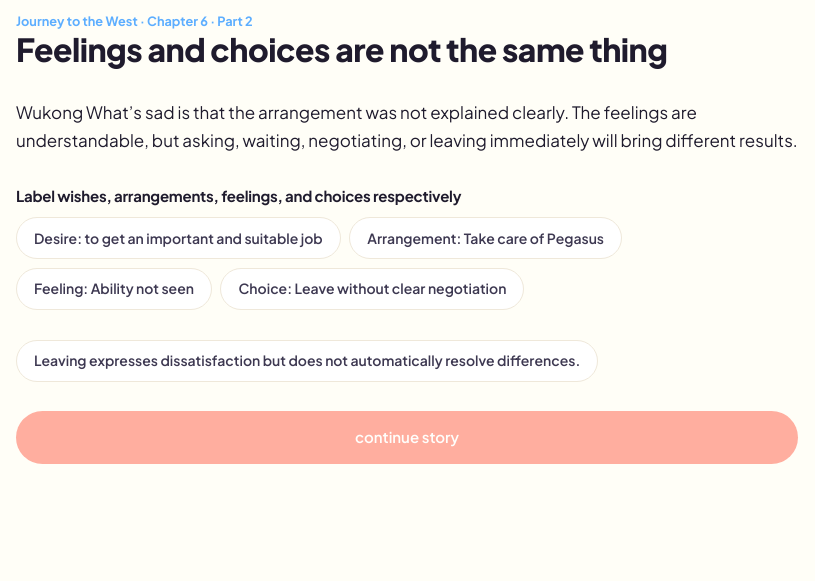
Test: JourneyWestC6IntroPartsPage › keeps understandable feelings separate from the consequential choice in P2
Check: the text "Wukong What’s sad" is shown, box [16,101,798,151]
What coordinates should you click on to do the following:
click the button "Desire: to get an important and suitable job"
I would click on:
 (178, 238)
Its box is [16,217,341,259].
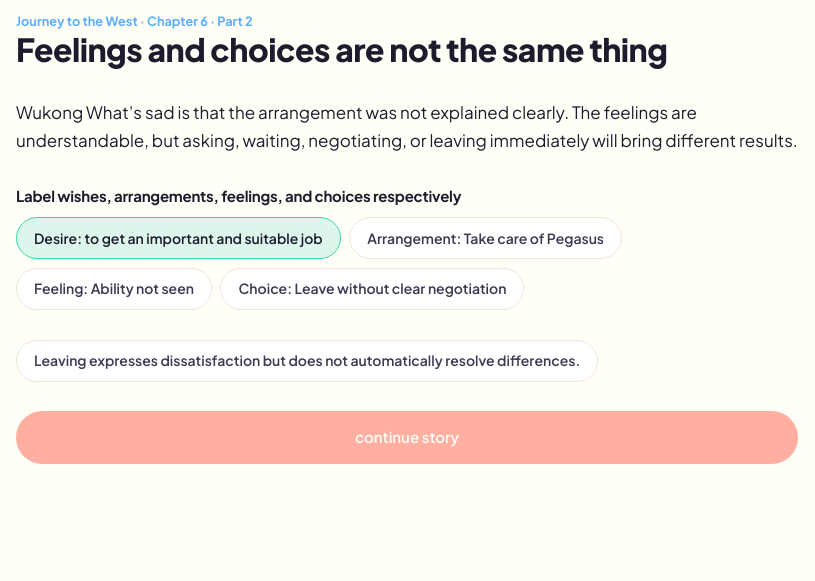
What coordinates should you click on to do the following:
click the button "Arrangement: Take care of Pegasus"
I would click on:
 (486, 238)
Its box is [349,217,622,259].
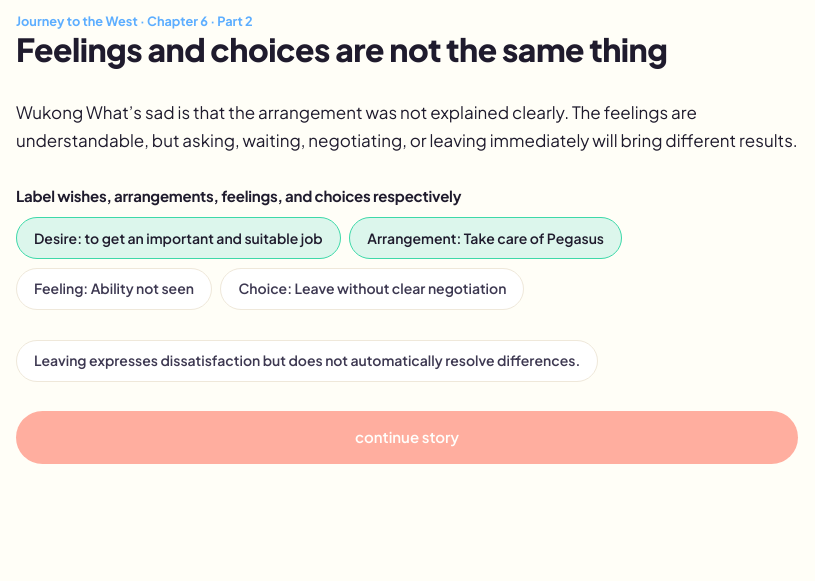
What coordinates should you click on to do the following:
click the button "Feeling: Ability not seen"
I would click on:
 (114, 289)
Its box is [16,268,212,310].
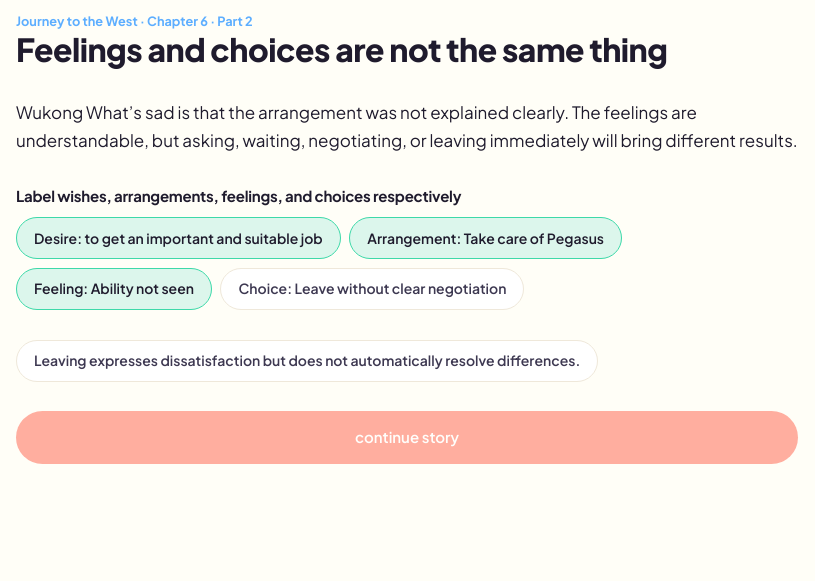
What coordinates should you click on to do the following:
click the button "Choice: Leave without clear negotiation"
I would click on:
 (372, 289)
Its box is [220,268,524,310].
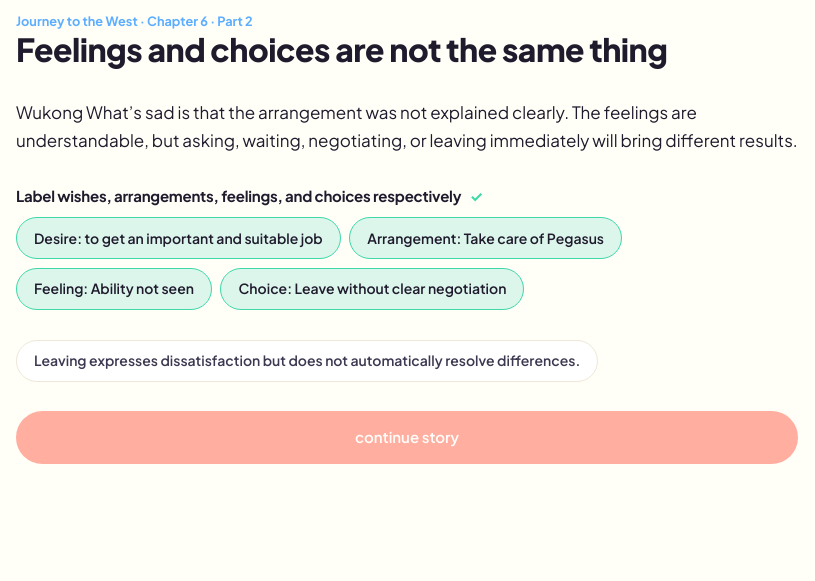
What coordinates should you click on to do the following:
click the button "Leaving expresses dissatisfaction"
I would click on:
 (307, 361)
Its box is [16,340,598,382].
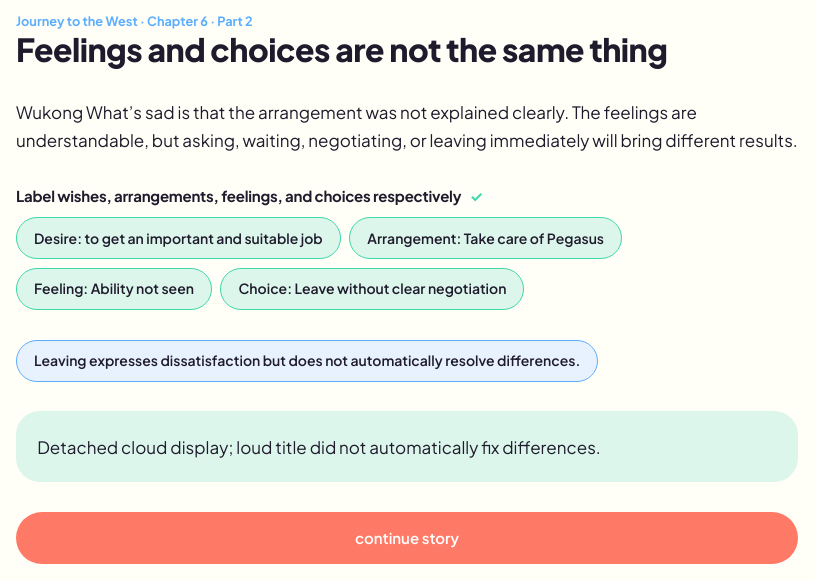
Check: the button with test id "jtw-c6-complete" is enabled, box [16,512,798,564]
